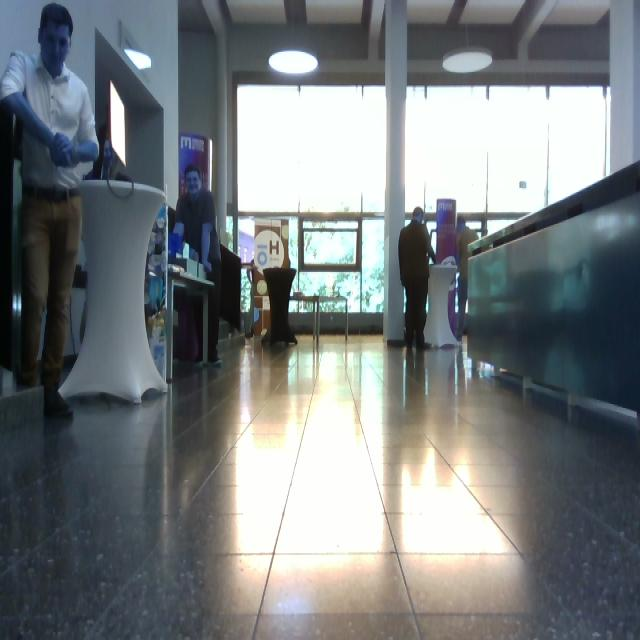door: (86, 28, 169, 384)
light bulb: (442, 47, 493, 75), (268, 49, 319, 76), (124, 49, 152, 70)
person: (1, 3, 100, 419), (174, 164, 223, 366), (398, 207, 437, 351), (455, 216, 480, 341)
pillar: (58, 178, 169, 404), (384, 1, 408, 346)
staircase: (465, 160, 639, 430)
tiled floor: (2, 332, 639, 638)
window: (235, 80, 387, 324)
